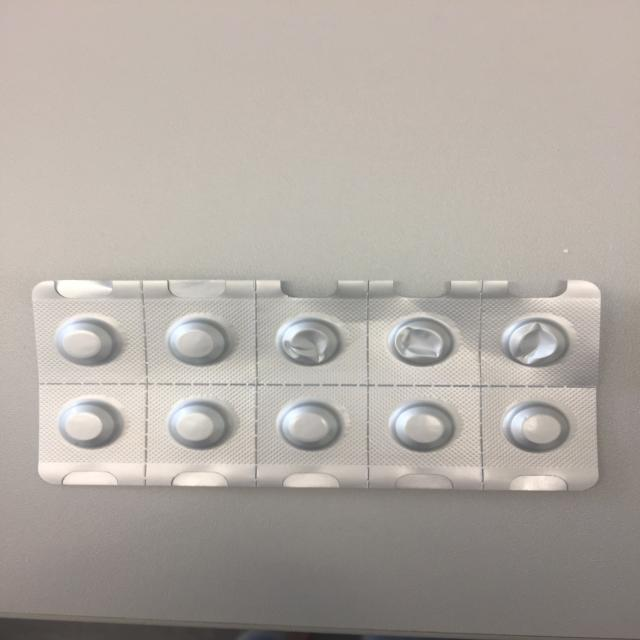Empty: (493, 312, 574, 371), (268, 310, 346, 370), (382, 314, 460, 374)
Pill: (378, 395, 469, 457), (271, 395, 350, 456), (497, 396, 574, 458), (162, 395, 234, 460), (154, 316, 242, 368), (50, 397, 128, 455), (50, 312, 128, 368)
